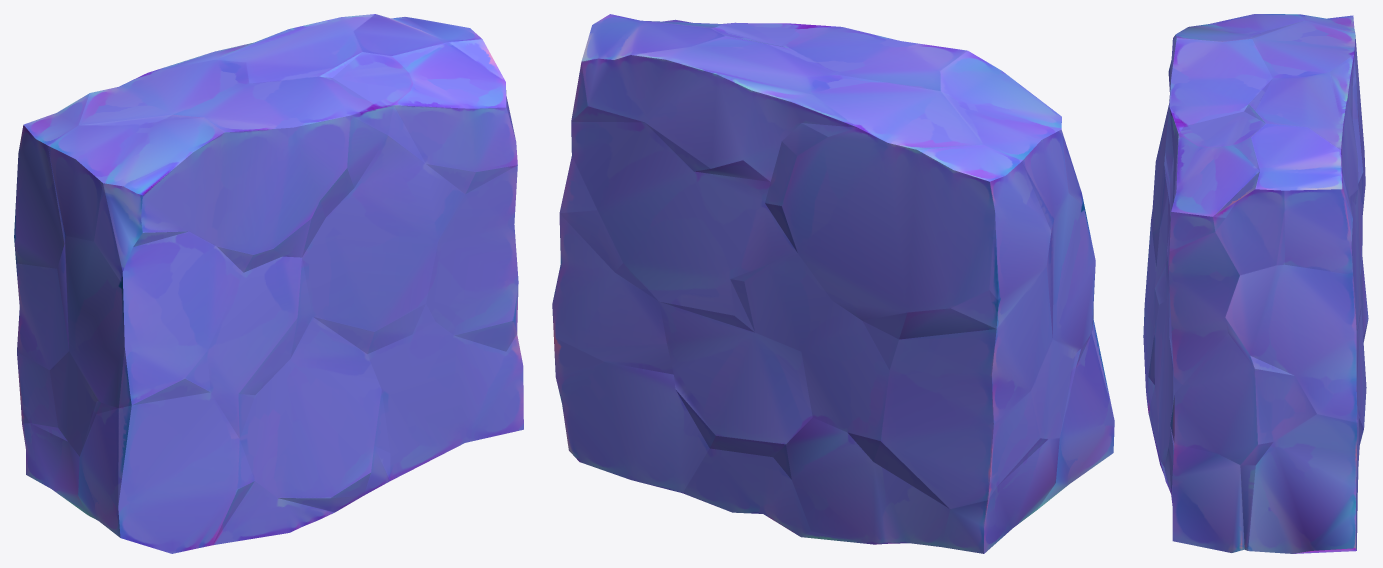
Rendered from B_Wall_LP.fbx.
3 views of the same model, side by side, from view 1: azimuth 30°, elevation 25°; view 2: azimuth 150°, elevation 25°; view 3: azimuth 270°, elevation 25° (orthographic). The views are drawn at different scales.
Parts seen in each view (by area): view 1: B_Wall_LP; view 2: B_Wall_LP; view 3: B_Wall_LP.
Boxes of the visible parts, x1,y1,x2,y2 form: B_Wall_LP: (14, 14, 523, 553); B_Wall_LP: (552, 14, 1114, 553); B_Wall_LP: (1143, 14, 1368, 553).
Size of the model in its own units: 919 by 848 by 423.
